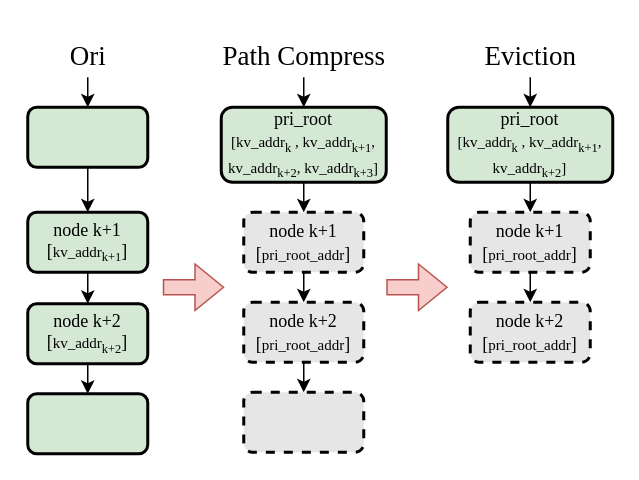
This 639x480 diagram has some shape labels left out. The centre of each missing label's shape, as x and y in pixels:
node k+3 [ kv_addr k+3 ]: (x=87, y=423)
node k+3 [ pri_root_addr ]: (x=303, y=421)
private node k [ kv_addr k ]: (x=87, y=136)
